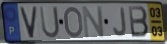B: (127, 5, 150, 39)
J: (112, 7, 128, 38)
N: (81, 5, 106, 39)
O: (64, 6, 85, 39)
U: (38, 5, 61, 39)
V: (18, 5, 38, 40)
